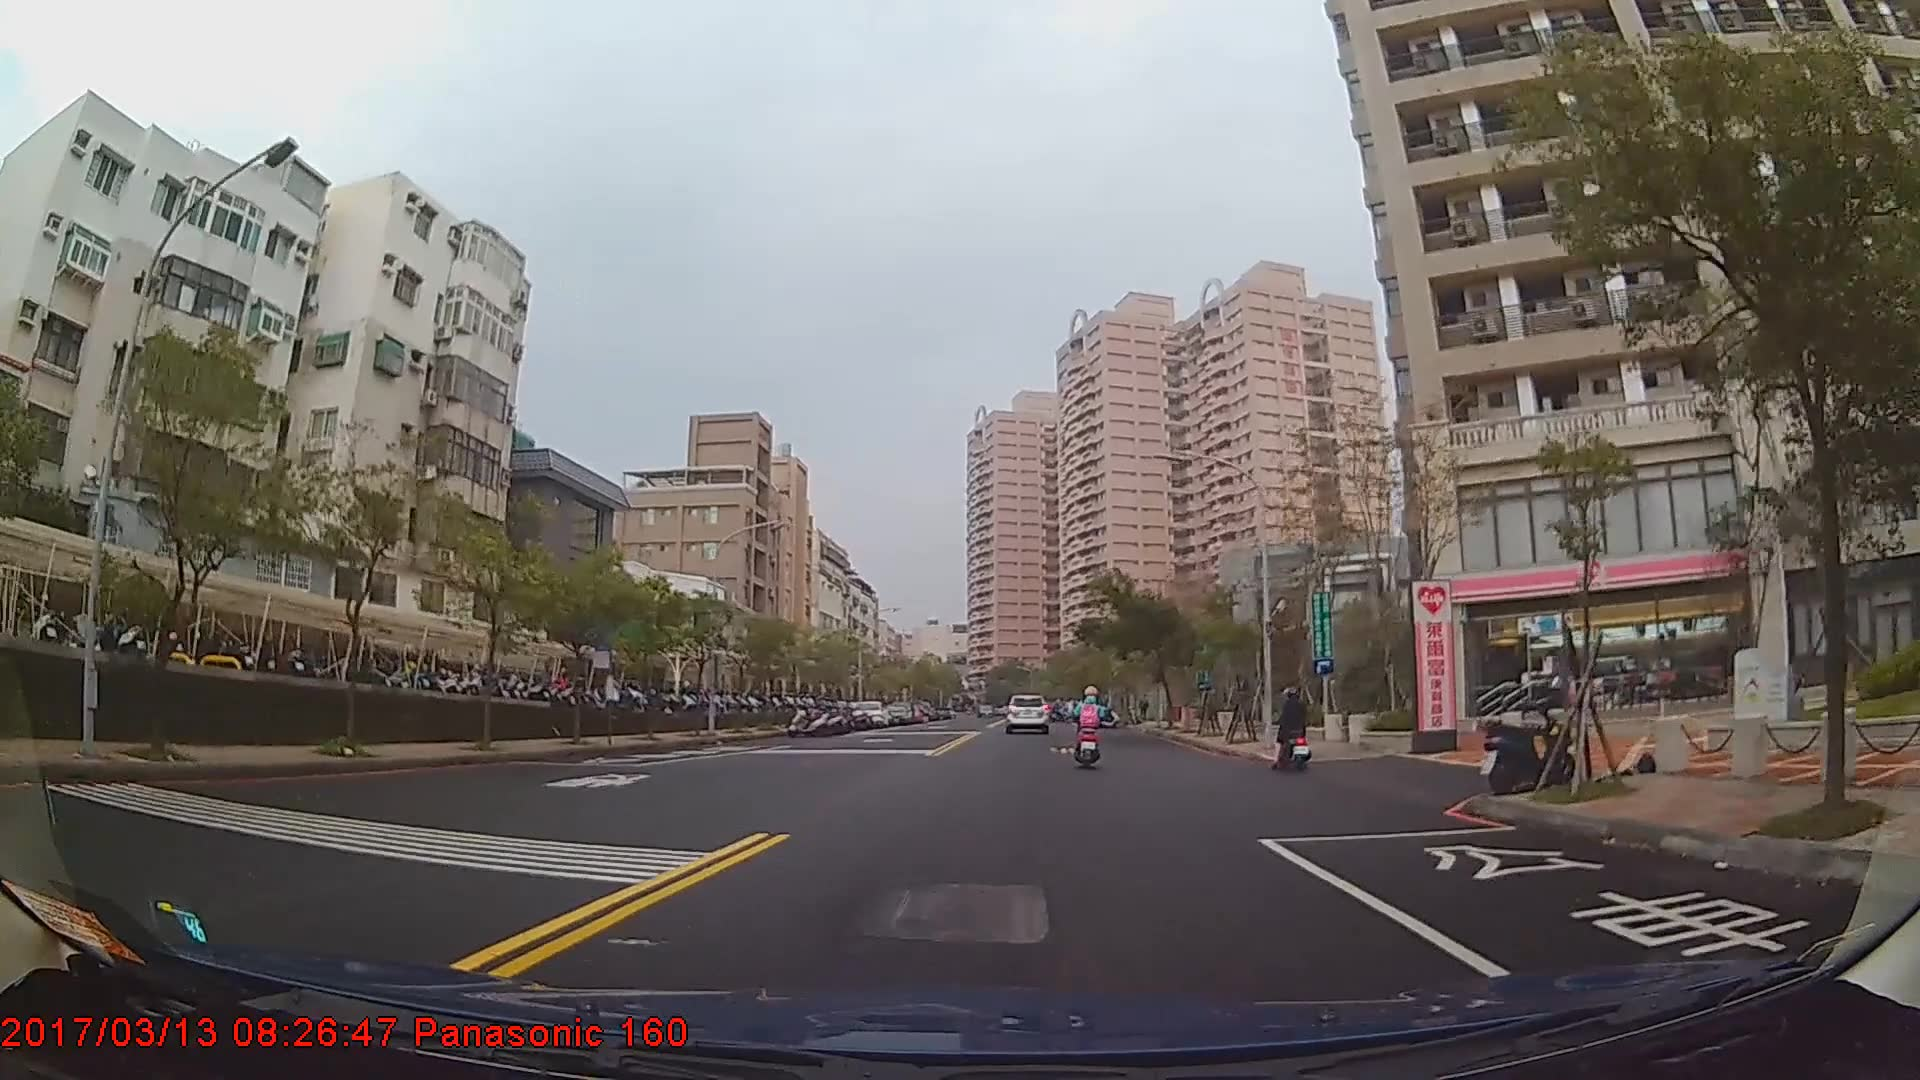rider: (1271, 687, 1315, 770), (1070, 687, 1109, 769)
vehicle: (1000, 691, 1051, 735), (849, 699, 885, 726)
